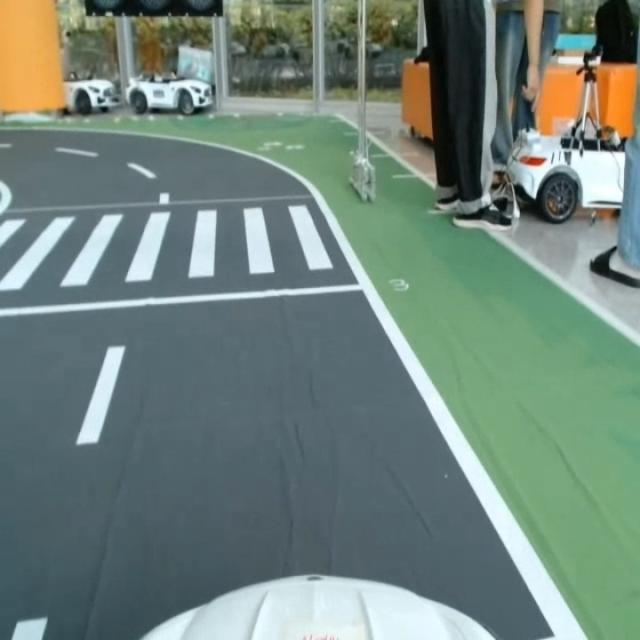traffic-light: (81, 0, 229, 21)
